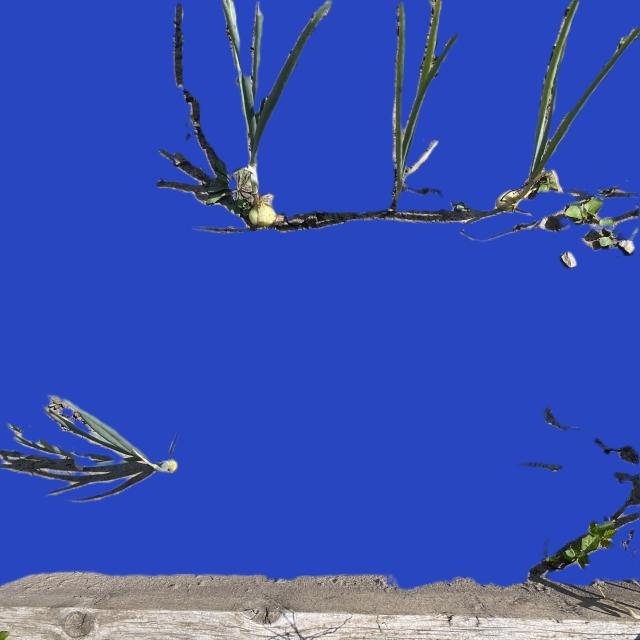Onion: (495, 13, 638, 214), (8, 385, 182, 502), (220, 0, 291, 242), (386, 0, 454, 225)
weed: (550, 512, 626, 578), (563, 190, 633, 253)
